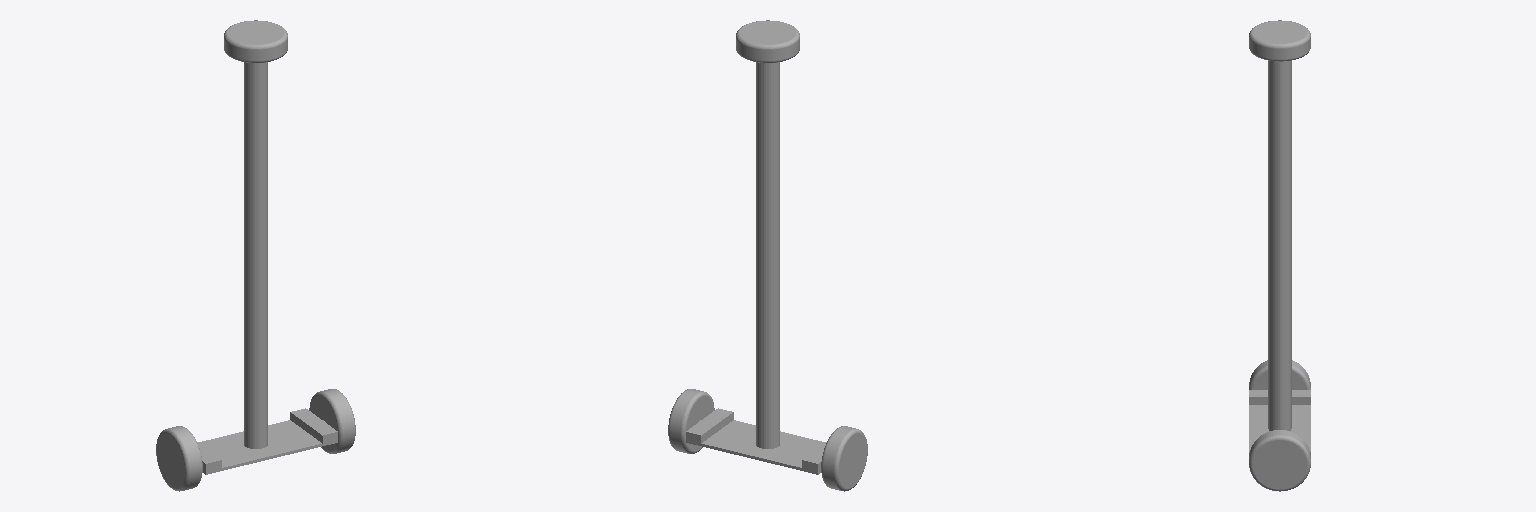
The robot description file, URDF, robot "balance":
<?xml version="1.0" ?>
<robot name="balance">
  <material name="silver">
    <color rgba="0.700 0.700 0.700 1.000"/>
  </material>
  <transmission name="Revolute 1_tran">
    <type>transmission_interface/SimpleTransmission</type>
    <joint name="Revolute 1">
      <hardwareInterface>hardware_interface/EffortJointInterface</hardwareInterface>
    </joint>
    <actuator name="Revolute 1_actr">
      <hardwareInterface>hardware_interface/EffortJointInterface</hardwareInterface>
      <mechanicalReduction>1</mechanicalReduction>
    </actuator>
  </transmission>
  <transmission name="Revolute 2_tran">
    <type>transmission_interface/SimpleTransmission</type>
    <joint name="Revolute 2">
      <hardwareInterface>hardware_interface/EffortJointInterface</hardwareInterface>
    </joint>
    <actuator name="Revolute 2_actr">
      <hardwareInterface>hardware_interface/EffortJointInterface</hardwareInterface>
      <mechanicalReduction>1</mechanicalReduction>
    </actuator>
  </transmission>
  <gazebo>
    <plugin filename="libgazebo_ros_control.so" name="control"/>
  </gazebo>
  <gazebo reference="base_link">
    <material>Gazebo/Silver</material>
    <mu1>0.2</mu1>
    <mu2>0.2</mu2>
    <selfCollide>true</selfCollide>
    <gravity>true</gravity>
  </gazebo>
  <gazebo reference="right_wheel_1">
    <material>Gazebo/Silver</material>
    <mu1>0.2</mu1>
    <mu2>0.2</mu2>
    <selfCollide>true</selfCollide>
  </gazebo>
  <gazebo reference="left_wheel_1">
    <material>Gazebo/Silver</material>
    <mu1>0.2</mu1>
    <mu2>0.2</mu2>
    <selfCollide>true</selfCollide>
  </gazebo>
  <gazebo reference="balance_wheel_1">
    <material>Gazebo/Silver</material>
    <mu1>0.2</mu1>
    <mu2>0.2</mu2>
    <selfCollide>true</selfCollide>
  </gazebo>
  <link name="base_link">
    <inertial>
      <origin rpy="0 0 0" xyz="-3.298439565456548e-17 0.0 0.15518382600667469"/>
      <mass value="1.1691157163837433"/>
      <inertia ixx="0.099393" ixy="-0.0" ixz="0.0" iyy="0.113338" iyz="0.0" izz="0.017848"/>
    </inertial>
    <visual>
      <origin rpy="0 0 0" xyz="0 0 0"/>
      <geometry>
        <mesh filename="meshes/base_link.stl" scale="0.001 0.001 0.001"/>
      </geometry>
      <material name="silver"/>
    </visual>
    <collision>
      <origin rpy="0 0 0" xyz="0 0 0"/>
      <geometry>
        <mesh filename="meshes/base_link.stl" scale="0.001 0.001 0.001"/>
      </geometry>
    </collision>
  </link>
  <link name="right_wheel_1">
    <inertial>
      <origin rpy="0 0 0" xyz="-0.025000000000000022 -3.695863830910979e-17 1.0408340855860843e-17"/>
      <mass value="0.9154342382147101"/>
      <inertia ixx="0.002874" ixy="-0.0" ixz="-0.0" iyy="0.001621" iyz="0.0" izz="0.001621"/>
    </inertial>
    <visual>
      <origin rpy="0 0 0" xyz="0.195 -0.0 -0.019"/>
      <geometry>
        <mesh filename="meshes/right_wheel_1.stl" scale="0.001 0.001 0.001"/>
      </geometry>
      <material name="silver"/>
    </visual>
    <collision>
      <origin rpy="0 0 0" xyz="0.195 -0.0 -0.019"/>
      <geometry>
        <mesh filename="meshes/right_wheel_1.stl" scale="0.001 0.001 0.001"/>
      </geometry>
    </collision>
  </link>
  <link name="left_wheel_1">
    <inertial>
      <origin rpy="0 0 0" xyz="0.025000000000000022 -2.7718978731832345e-17 1.0408340855860843e-17"/>
      <mass value="0.9154342382147101"/>
      <inertia ixx="0.002874" ixy="-0.0" ixz="-0.0" iyy="0.001621" iyz="0.0" izz="0.001621"/>
    </inertial>
    <visual>
      <origin rpy="0 0 0" xyz="-0.195 -0.0 -0.019"/>
      <geometry>
        <mesh filename="meshes/left_wheel_1.stl" scale="0.001 0.001 0.001"/>
      </geometry>
      <material name="silver"/>
    </visual>
    <collision>
      <origin rpy="0 0 0" xyz="-0.195 -0.0 -0.019"/>
      <geometry>
        <mesh filename="meshes/left_wheel_1.stl" scale="0.001 0.001 0.001"/>
      </geometry>
    </collision>
  </link>
  <link name="balance_wheel_1">
    <inertial>
      <origin rpy="0 0 0" xyz="8.315693619549702e-17 -2.7718978731832345e-17 0.025000000000000133"/>
      <mass value="0.9154342382147101"/>
      <inertia ixx="0.001621" ixy="0.0" ixz="-0.0" iyy="0.001621" iyz="-0.0" izz="0.002874"/>
    </inertial>
    <visual>
      <origin rpy="0 0 0" xyz="-0.0 -0.0 -1.088"/>
      <geometry>
        <mesh filename="meshes/balance_wheel_1.stl" scale="0.001 0.001 0.001"/>
      </geometry>
      <material name="silver"/>
    </visual>
    <collision>
      <origin rpy="0 0 0" xyz="-0.0 -0.0 -1.088"/>
      <geometry>
        <mesh filename="meshes/balance_wheel_1.stl" scale="0.001 0.001 0.001"/>
      </geometry>
    </collision>
  </link>
  <joint name="Revolute 1" type="continuous">
    <origin rpy="0 0 0" xyz="-0.195 0.0 0.019"/>
    <parent link="base_link"/>
    <child link="right_wheel_1"/>
    <axis xyz="-1.0 0.0 0.0"/>
  </joint>
  <joint name="Revolute 2" type="continuous">
    <origin rpy="0 0 0" xyz="0.195 0.0 0.019"/>
    <parent link="base_link"/>
    <child link="left_wheel_1"/>
    <axis xyz="1.0 0.0 0.0"/>
  </joint>
  <joint name="Rigid 3" type="fixed">
    <origin rpy="0 0 0" xyz="0.0 0.0 1.088"/>
    <parent link="base_link"/>
    <child link="balance_wheel_1"/>
  </joint>
</robot>

--- Facts derived from the render (not from the file) ---
Views: 3 orthographic renders of the robot side by side, from view 1: azimuth 30°, elevation 25°; view 2: azimuth 150°, elevation 25°; view 3: azimuth 270°, elevation 25°.
Model balance with 4 links and 3 joints (2 continuous, 1 fixed), rooted at base_link, posed all joints at 0.
Visible links, largest first — view 1: base_link, right_wheel_1, balance_wheel_1, left_wheel_1; view 2: base_link, right_wheel_1, balance_wheel_1, left_wheel_1; view 3: base_link, left_wheel_1, balance_wheel_1, right_wheel_1.
Link boxes in pixels (x1,y1,x2,y2): base_link: [197, 62, 337, 474]; right_wheel_1: [156, 426, 202, 491]; balance_wheel_1: [224, 20, 287, 62]; left_wheel_1: [309, 389, 355, 453]; base_link: [686, 62, 826, 474]; right_wheel_1: [821, 426, 867, 491]; balance_wheel_1: [736, 20, 799, 62]; left_wheel_1: [668, 389, 714, 453]; base_link: [1249, 61, 1310, 452]; left_wheel_1: [1249, 430, 1310, 491]; balance_wheel_1: [1249, 20, 1310, 61]; right_wheel_1: [1249, 360, 1310, 389].
Size in the robot's own frame: 0.49 by 0.16 by 1.2 metres.
4 mesh visuals loaded from 4 distinct referenced files (4 binary STL).